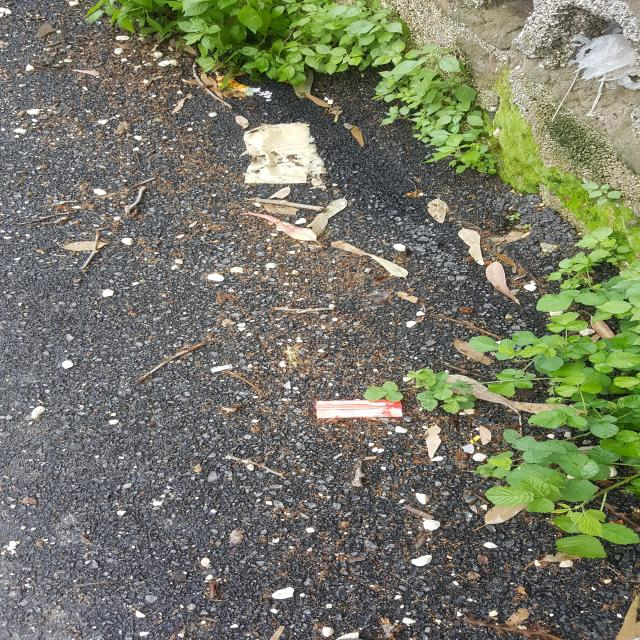litter: (243, 122, 327, 183), (568, 22, 640, 90), (317, 399, 403, 418), (216, 75, 272, 100), (130, 177, 156, 188), (470, 435, 481, 445)
